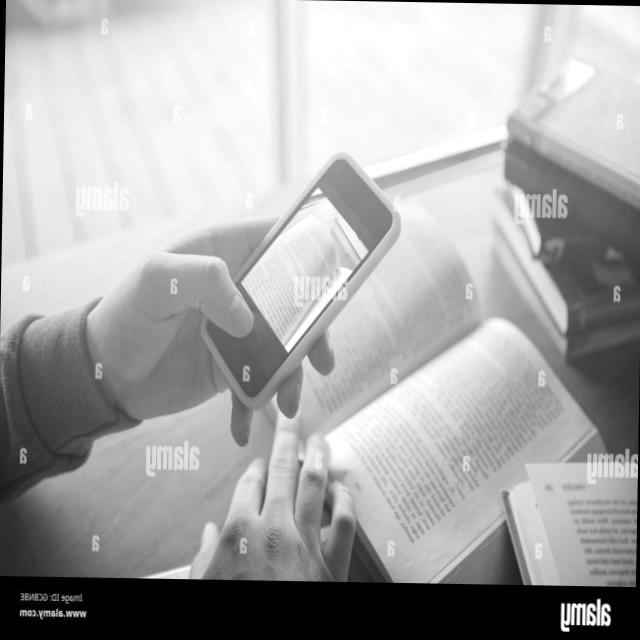phone: (198, 147, 403, 414)
